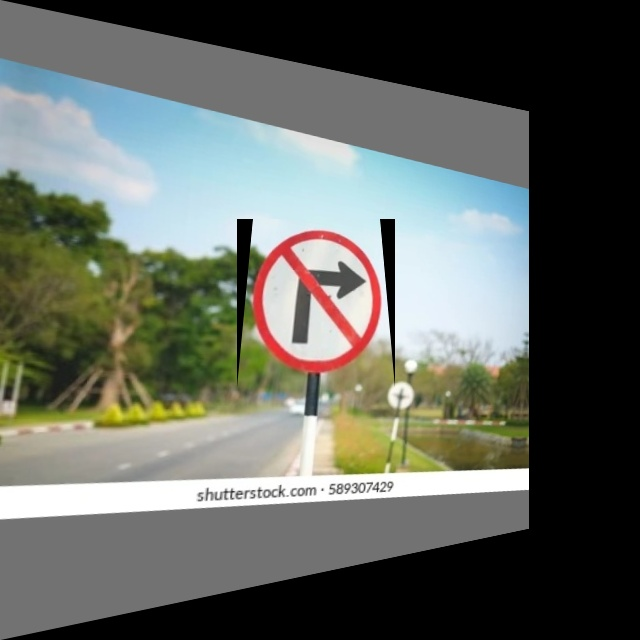Right_Turn_Prohibited: (237, 219, 395, 388)
